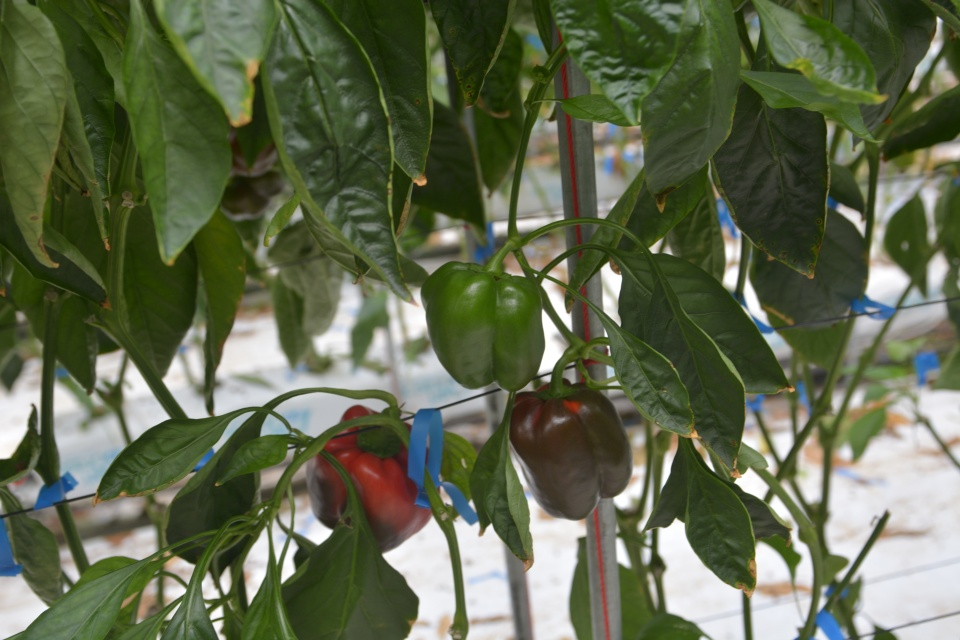fruit: (305, 402, 434, 556), (508, 376, 635, 520), (417, 259, 547, 392), (218, 125, 285, 223)
pedicle: (357, 422, 403, 460), (474, 262, 512, 280), (539, 384, 579, 399)
